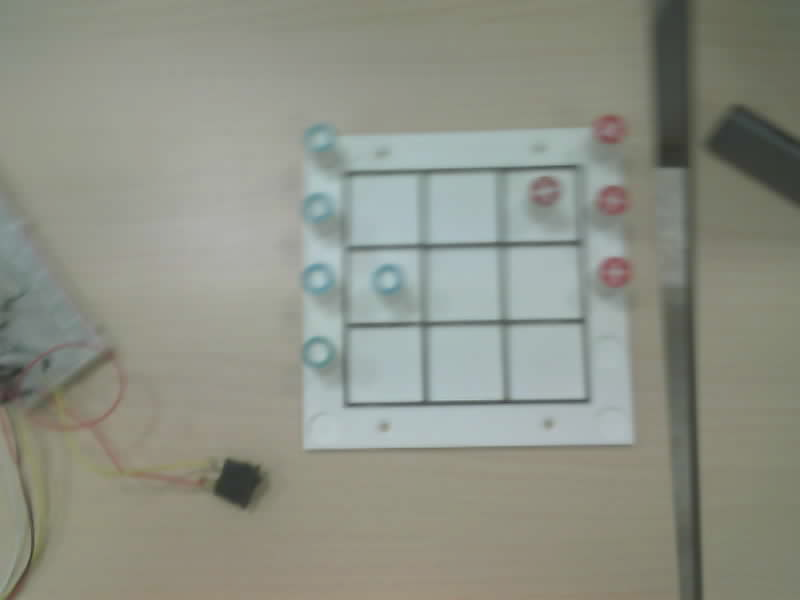blue circle: (302, 336, 335, 368), (302, 263, 334, 294), (303, 192, 333, 223), (304, 123, 336, 152), (372, 265, 403, 294)
board: (302, 116, 632, 448)
cells: (508, 324, 585, 400), (347, 327, 421, 403), (428, 326, 502, 401), (505, 247, 581, 319), (347, 249, 420, 322), (427, 248, 499, 320), (504, 169, 577, 240), (349, 174, 419, 246), (426, 172, 496, 242)
grid: (341, 165, 590, 406)
red cross: (599, 257, 632, 287), (596, 186, 629, 215), (593, 115, 626, 143), (530, 176, 560, 205)
